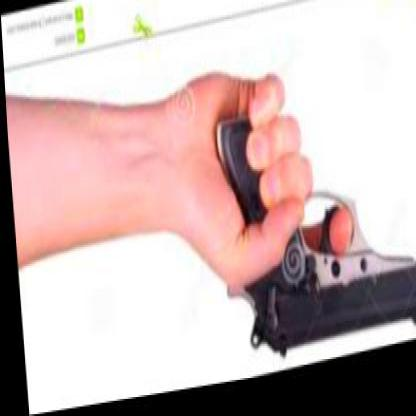pistol: (211, 89, 415, 384)
